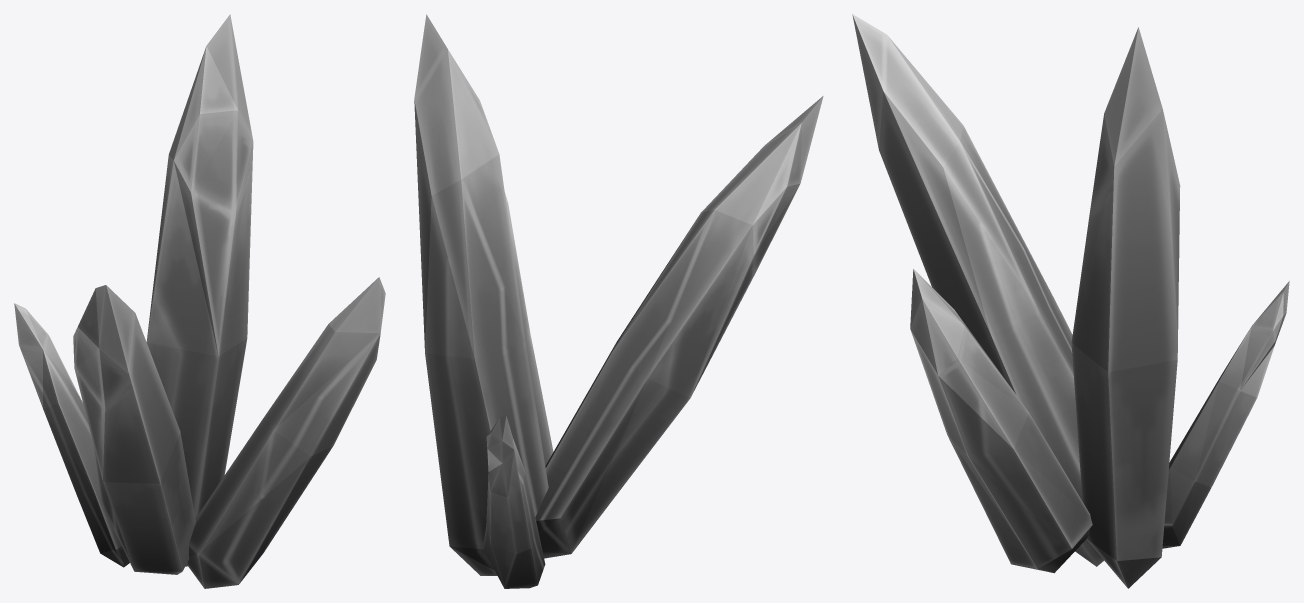
Rendered from cave crystal clump.FBX.
3 renders of one model, left to right at view 1: azimuth 30°, elevation 25°; view 2: azimuth 150°, elevation 25°; view 3: azimuth 270°, elevation 25°, orthographic. The views are drawn at different scales.
Parts seen in each view (by area): view 1: crystal A002; view 2: crystal A002; view 3: crystal A002.
Boxes of the visible parts, <box> form: crystal A002: <box>14,14,385,588</box>; crystal A002: <box>414,14,823,588</box>; crystal A002: <box>852,14,1289,588</box>.
Bounding box in the file's own units: 3.64 × 6.01 × 4.05.
